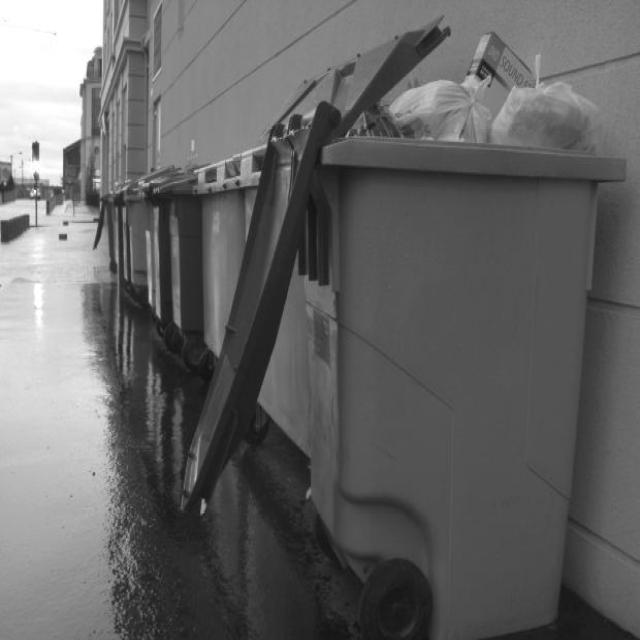trash: (359, 59, 597, 145)
